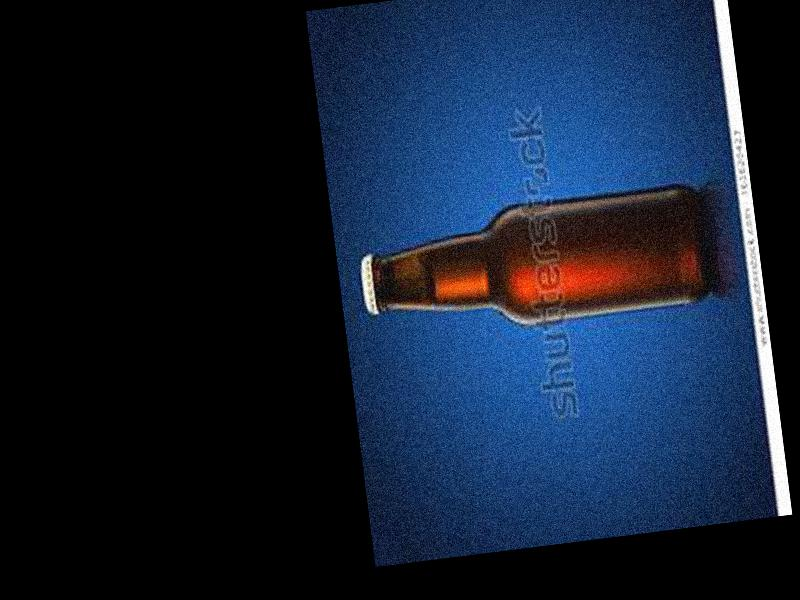Beer: (353, 181, 712, 345)
